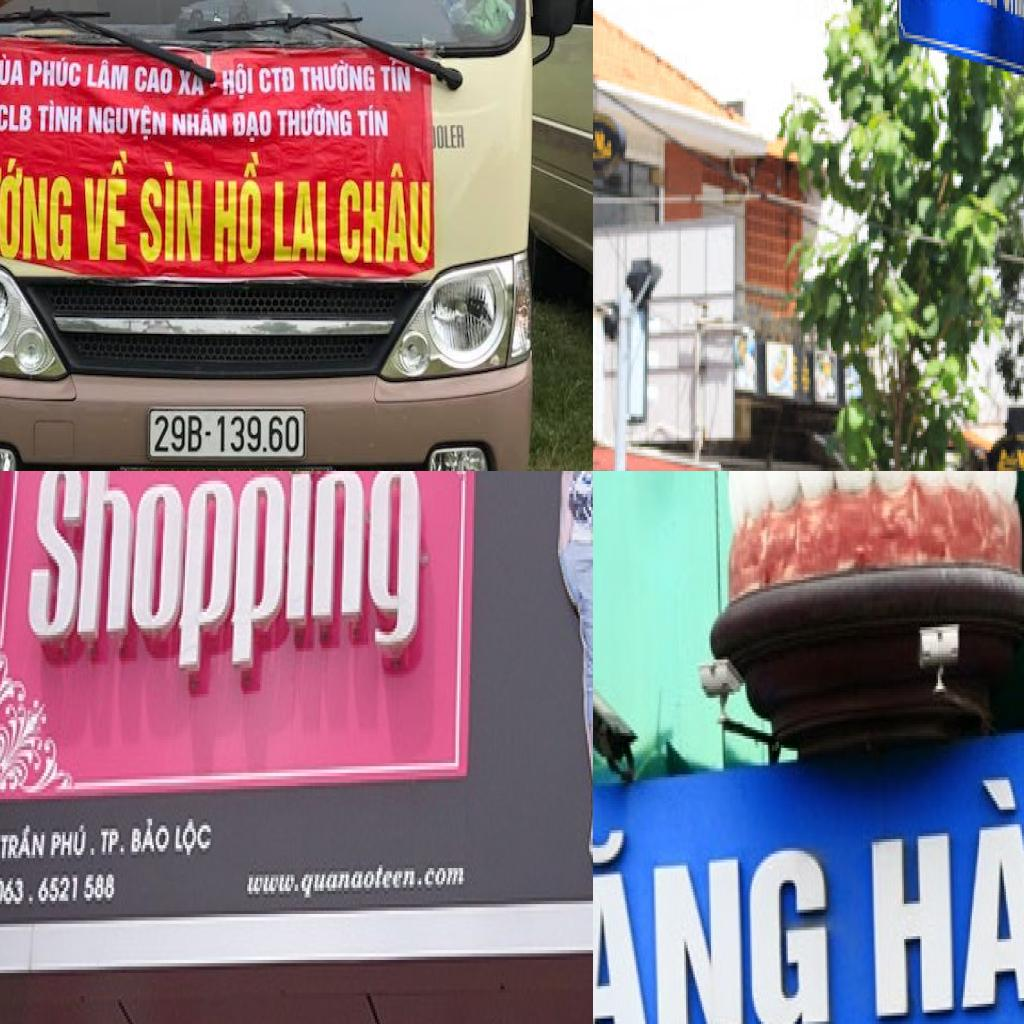text: (20, 471, 424, 684), (593, 806, 836, 1024), (868, 768, 1024, 1024), (244, 862, 468, 904), (0, 154, 75, 268), (138, 159, 204, 266), (152, 412, 303, 456), (80, 148, 131, 266), (212, 149, 263, 266), (274, 178, 329, 264), (0, 871, 117, 910), (87, 104, 168, 144), (97, 816, 174, 858), (298, 58, 378, 95), (275, 102, 354, 139), (171, 106, 229, 142), (0, 822, 49, 864), (28, 54, 83, 91), (50, 822, 99, 862), (36, 98, 84, 136), (85, 57, 132, 95), (230, 106, 273, 146), (222, 61, 256, 102), (133, 65, 175, 97), (378, 58, 414, 95), (258, 64, 298, 96), (356, 104, 391, 139), (0, 102, 33, 136), (176, 66, 206, 100), (0, 50, 26, 89), (435, 122, 467, 152)
